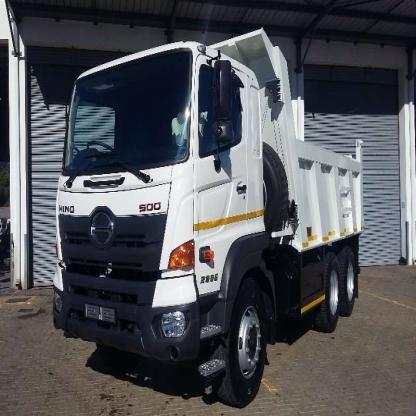dump_truck: (45, 24, 375, 398)
